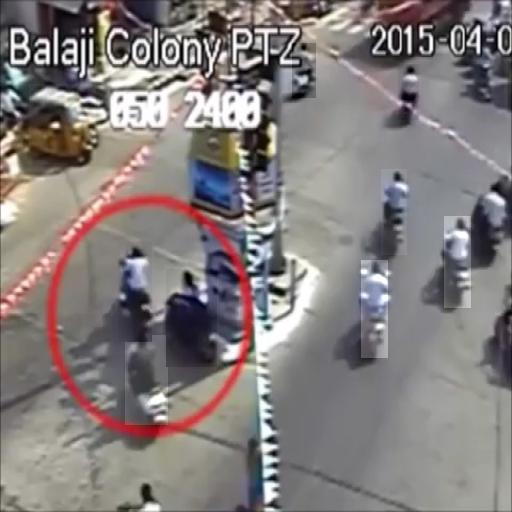小汽车: (29, 84, 96, 164)
自行车: (166, 269, 217, 367), (125, 335, 168, 425), (118, 242, 152, 342), (361, 260, 388, 358), (444, 216, 471, 308), (473, 182, 506, 256), (381, 169, 407, 255), (292, 43, 316, 98), (398, 64, 419, 120)
